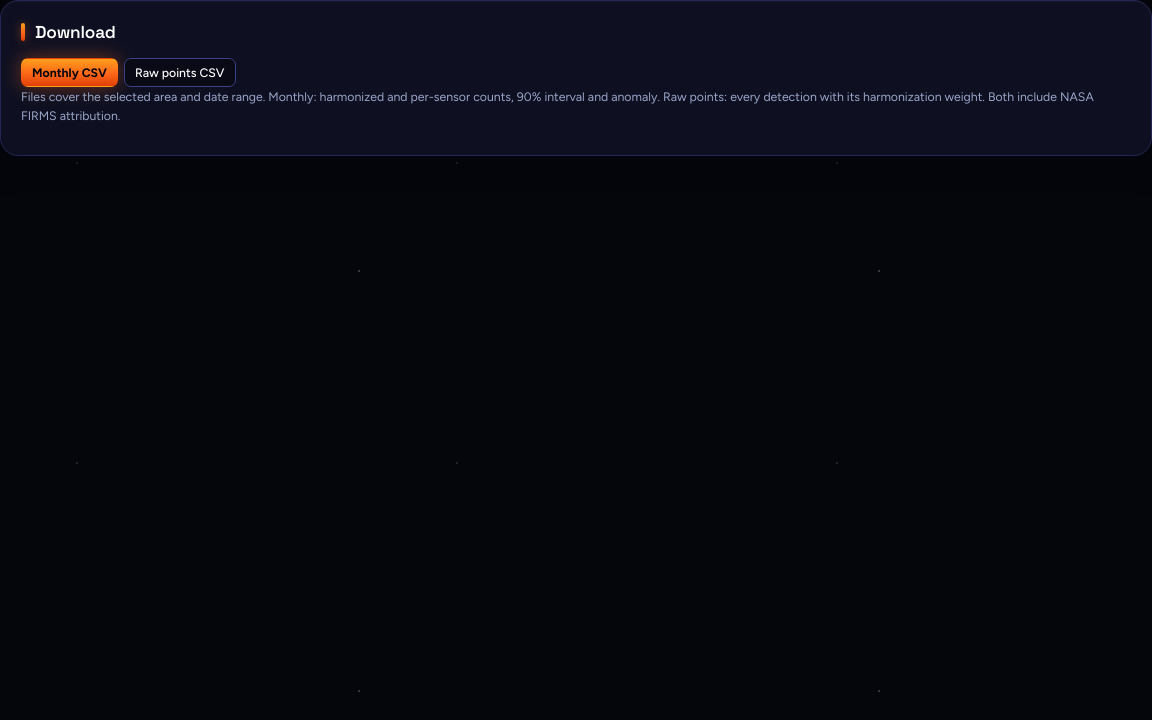
Test: ExportPanel › requests raw points and shows API errors
The image size is (1152, 720).
Step 1. Click the button "Raw points CSV" → {"x": 180, "y": 72}, box top-left (124, 58), bottom-right (236, 87)
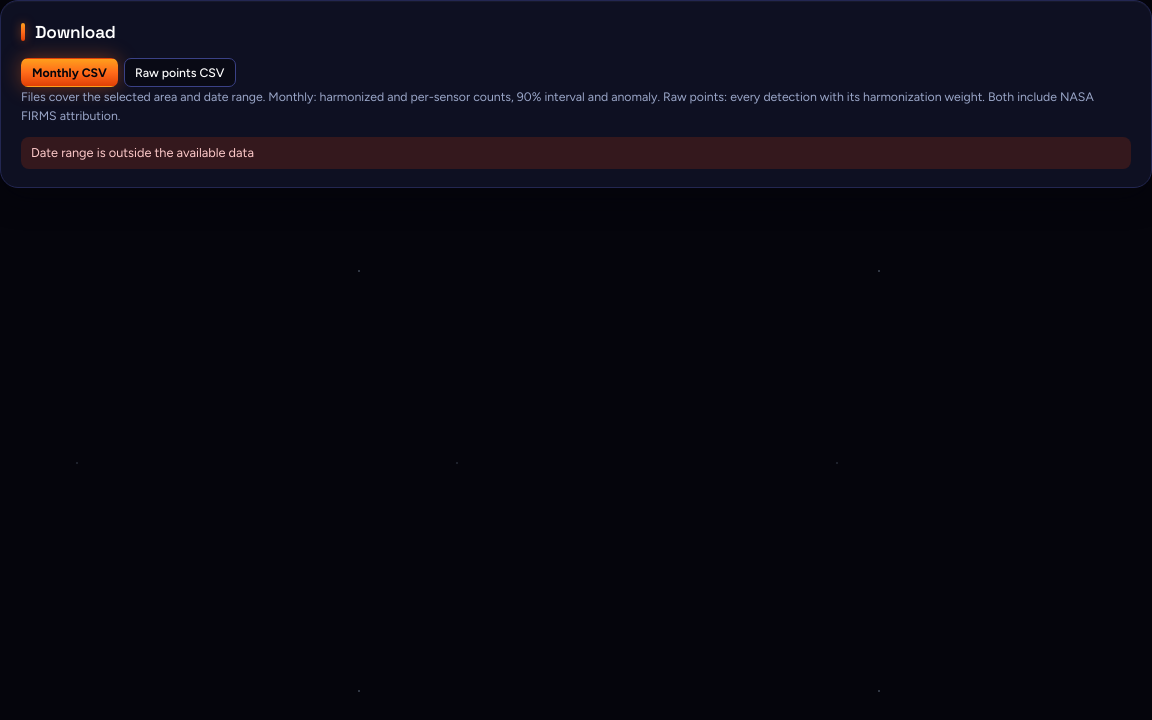
Expected: the message shows "outside the available data", top-left (31, 145), bottom-right (254, 160)
